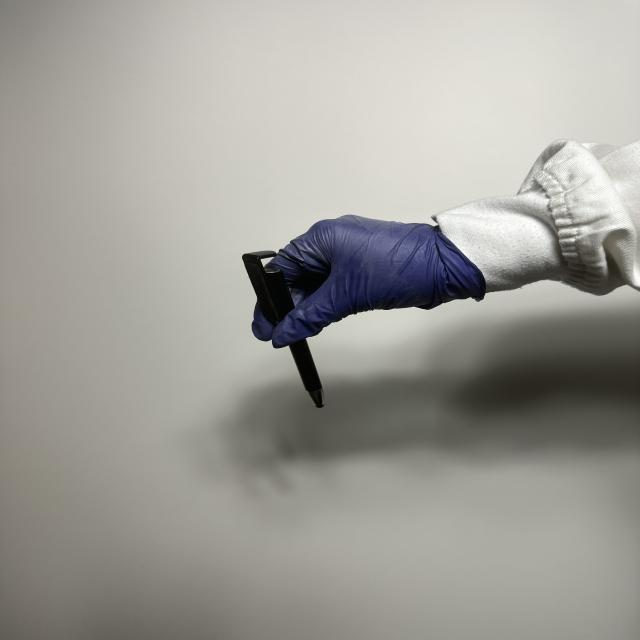gloves_contaminated: (252, 215, 486, 348)
